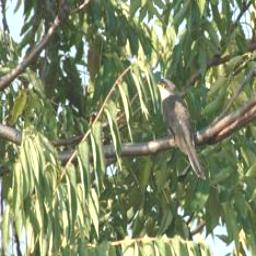Cuckoo: (154, 76, 210, 182)
